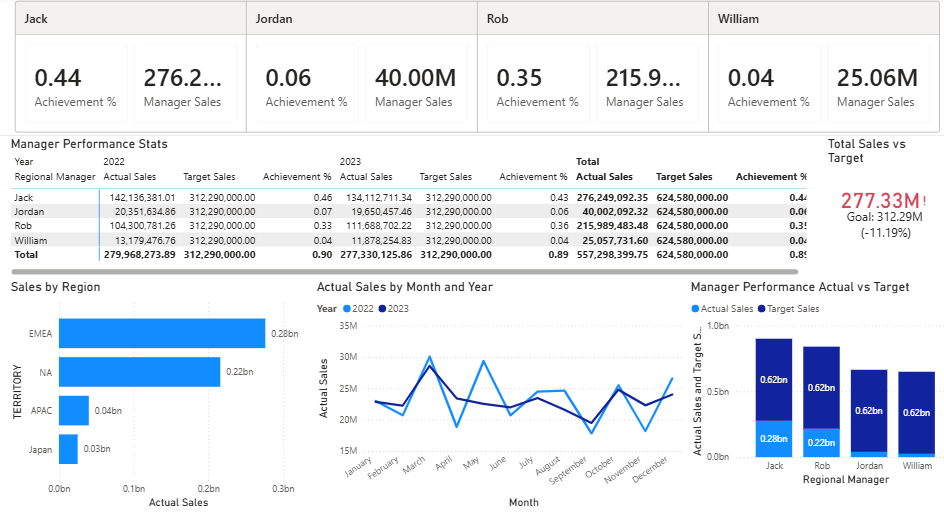

The dashboard page shown, as its layout file describes it:
{"tool":"powerbi","page":{"name":"RM Performance","canvas":[1280,720],"ordinal":1},"visuals":[{"type":"columnChart","title":"Manager Performance Actual vs Target","fields":{"Category":["Regional Manager.Reginal Manager"],"Y":["Sales Exec Target.Actual Sales","Sales Exec Target.Target Sales"]},"box":[918.3,375,361.7,280],"z":0},{"type":"cardVisual","fields":{"Data":["Sales Exec Target.Achievement %","Regional Manager.Manager Sales"],"Rows":["Regional Manager.Reginal Manager"]},"box":[0,0,1280,185],"z":1000},{"type":"pivotTable","title":"Manager Performance Stats","fields":{"Columns":["Dim Year.Year"],"Rows":["Regional Manager.Reginal Manager"],"Values":["Sales Exec Target.Actual Sales","Sales Exec Target.Target Sales","Sales Exec Target.Achievement %"]},"box":[15,185,1066.7,190],"z":2000},{"type":"kpi","title":"Total Sales vs Target","fields":{"Goal":["Sales Exec Target.Target Sales"],"Indicator":["Sales Exec Target.Actual Sales"],"TrendLine":["Dim Year.Year"]},"box":[1100,185,161.7,175],"z":3000},{"type":"lineChart","fields":{"Category":["Date Table.Month Year.Variation.Date Hierarchy.Month"],"Series":["Date Table.Month Year.Variation.Date Hierarchy.Year"],"Y":["Sales Exec Target.Actual Sales"]},"box":[421.7,375,496.7,310],"z":4000},{"type":"barChart","title":"Sales by Region","fields":{"Category":["Regional Manager.TERRITORY"],"Y":["Sales Exec Target.Actual Sales"]},"box":[15,375,407,310],"z":5000}]}

Visuals, with their boxes in screenshot pixels (x1, y1, x2, y2), scaled from the page's 1280x720 canvas onto the 944x518 screenshot:
"Manager Performance Actual vs Target" columnChart: left=677, top=270, right=943, bottom=471
cardVisual - Sales Exec Target.Achievement % x Regional Manager.Manager Sales: left=0, top=0, right=943, bottom=133
"Manager Performance Stats" pivotTable: left=11, top=133, right=798, bottom=270
"Total Sales vs Target" kpi: left=811, top=133, right=931, bottom=259
lineChart - Date Table.Month Year.Variation.Date Hierarchy.Month x Date Table.Month Year.Variation.Date Hierarchy.Year: left=311, top=270, right=677, bottom=493
"Sales by Region" barChart: left=11, top=270, right=311, bottom=493
